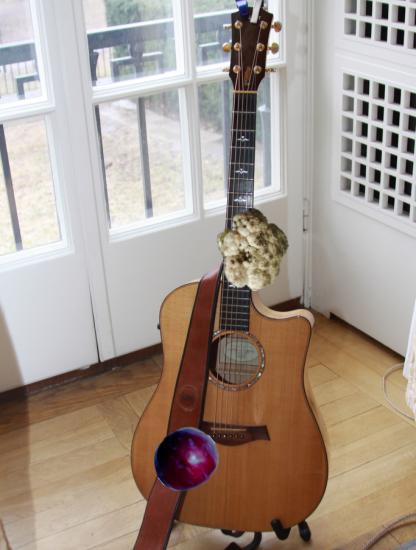Cauliflower: (210, 206, 296, 292)
Plum: (152, 426, 220, 494)
